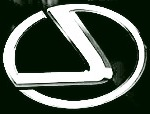Lexus: (3, 3, 148, 111)
